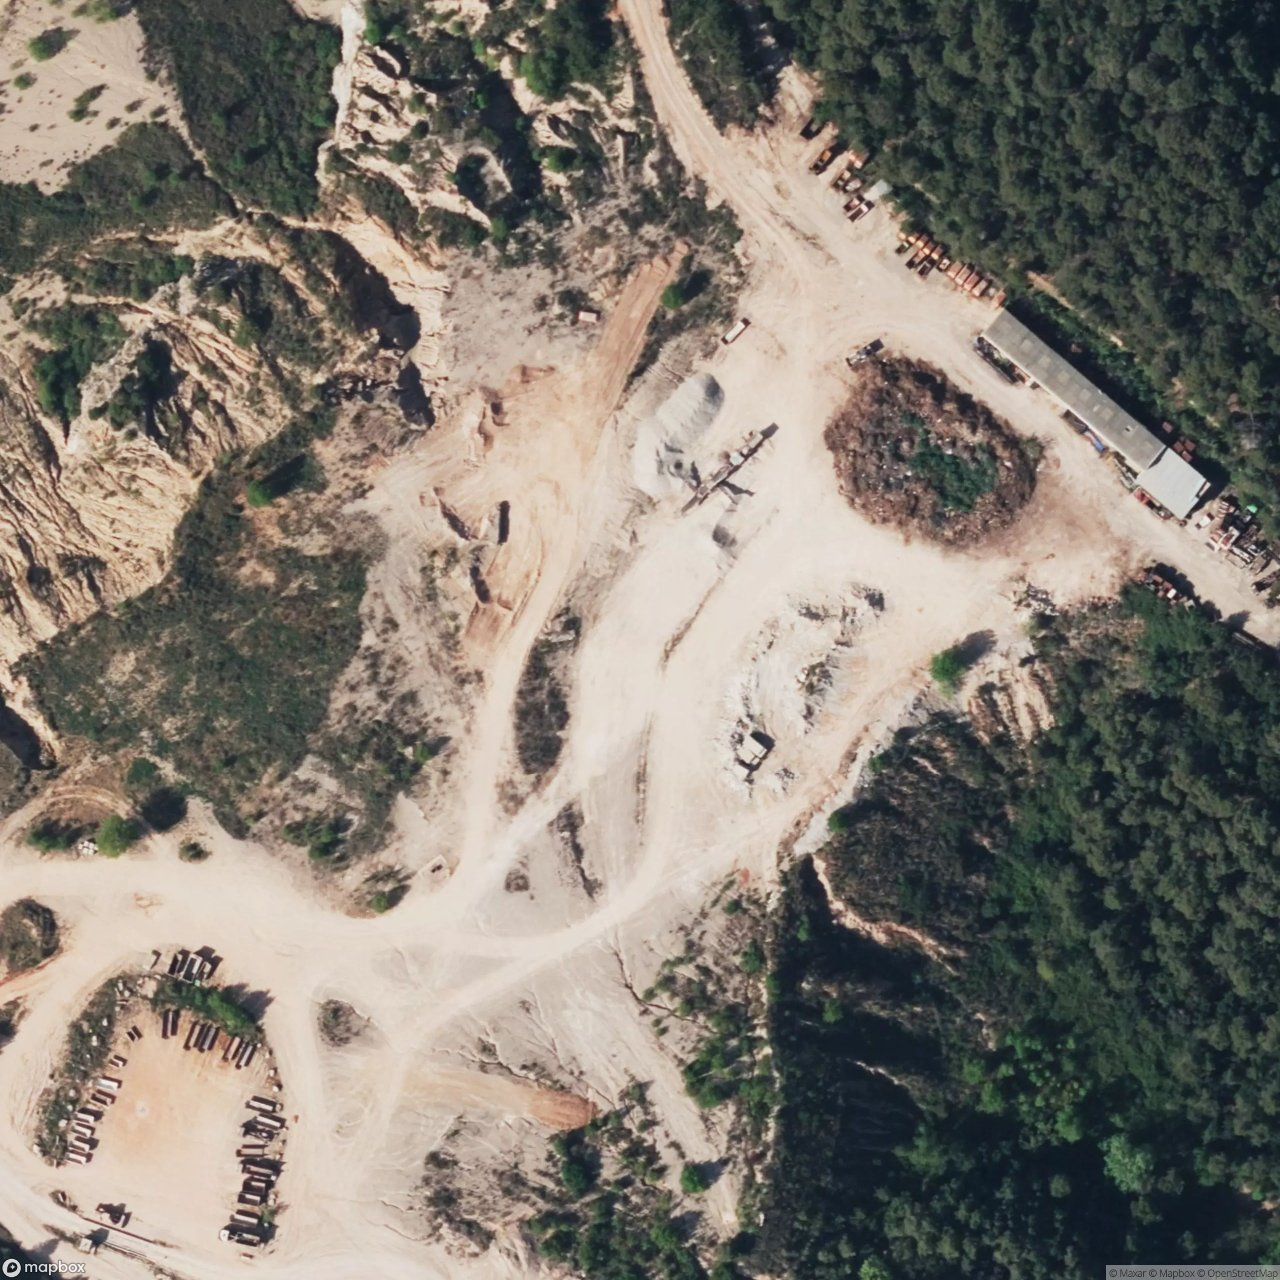dump_site: (808, 328, 1041, 567)
